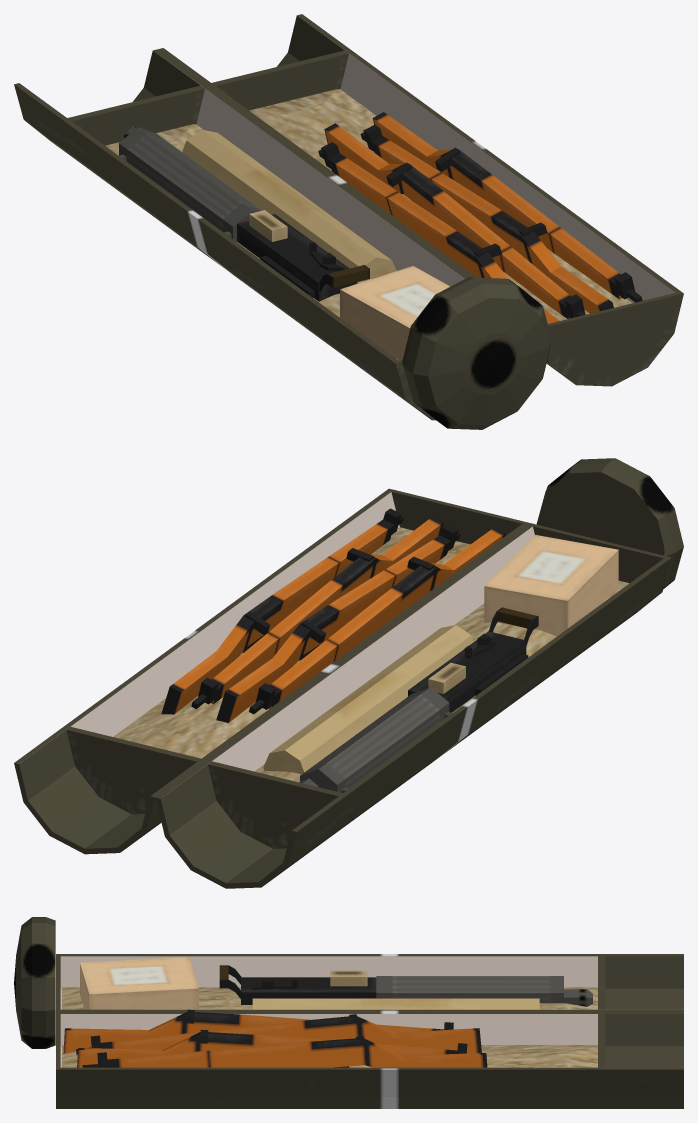
Rendered from usf_armoury_para.glb.
3 views of the same model, one above another, from view 1: azimuth 30°, elevation 25°; view 2: azimuth 150°, elevation 25°; view 3: azimuth 270°, elevation 25° (orthographic). The views are drawn at different scales.
Parts seen in each view (by area): view 1: 00_chassis_para_armoury.mesh; view 2: 00_chassis_para_armoury.mesh; view 3: 00_chassis_para_armoury.mesh.
Boxes of the visible parts, <box> form: 00_chassis_para_armoury.mesh: <box>14,14,683,429</box>; 00_chassis_para_armoury.mesh: <box>14,458,683,888</box>; 00_chassis_para_armoury.mesh: <box>14,917,683,1108</box>.
Size of the model in its own units: 1.03 by 0.5053 by 2.51.
1 material, 1 textured.
